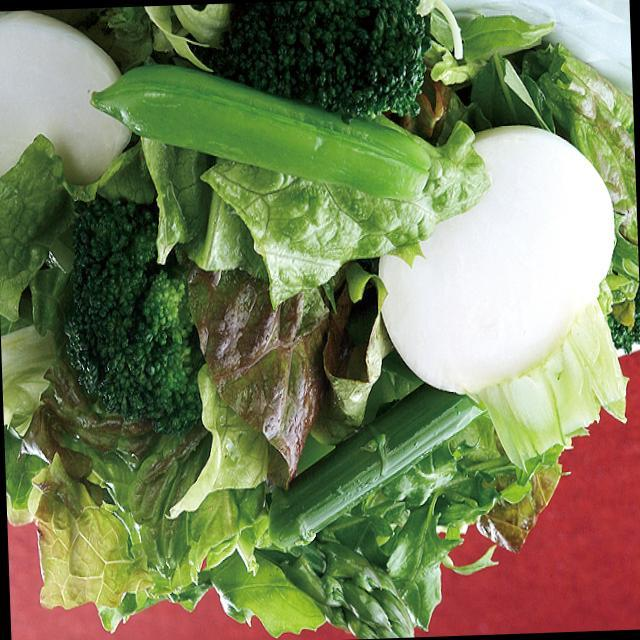Green Salad: (16, 6, 597, 598)
